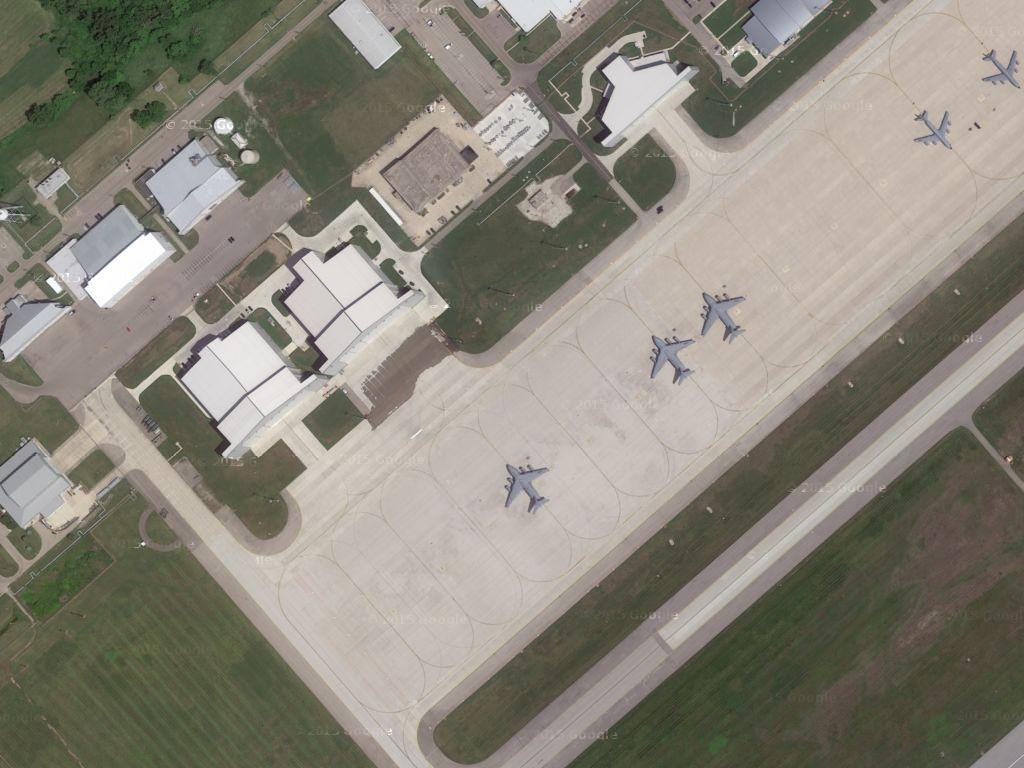C-17: (692, 289, 751, 345), (499, 461, 557, 517), (647, 332, 699, 388)
KC-135: (908, 105, 958, 151), (977, 44, 1022, 93)
